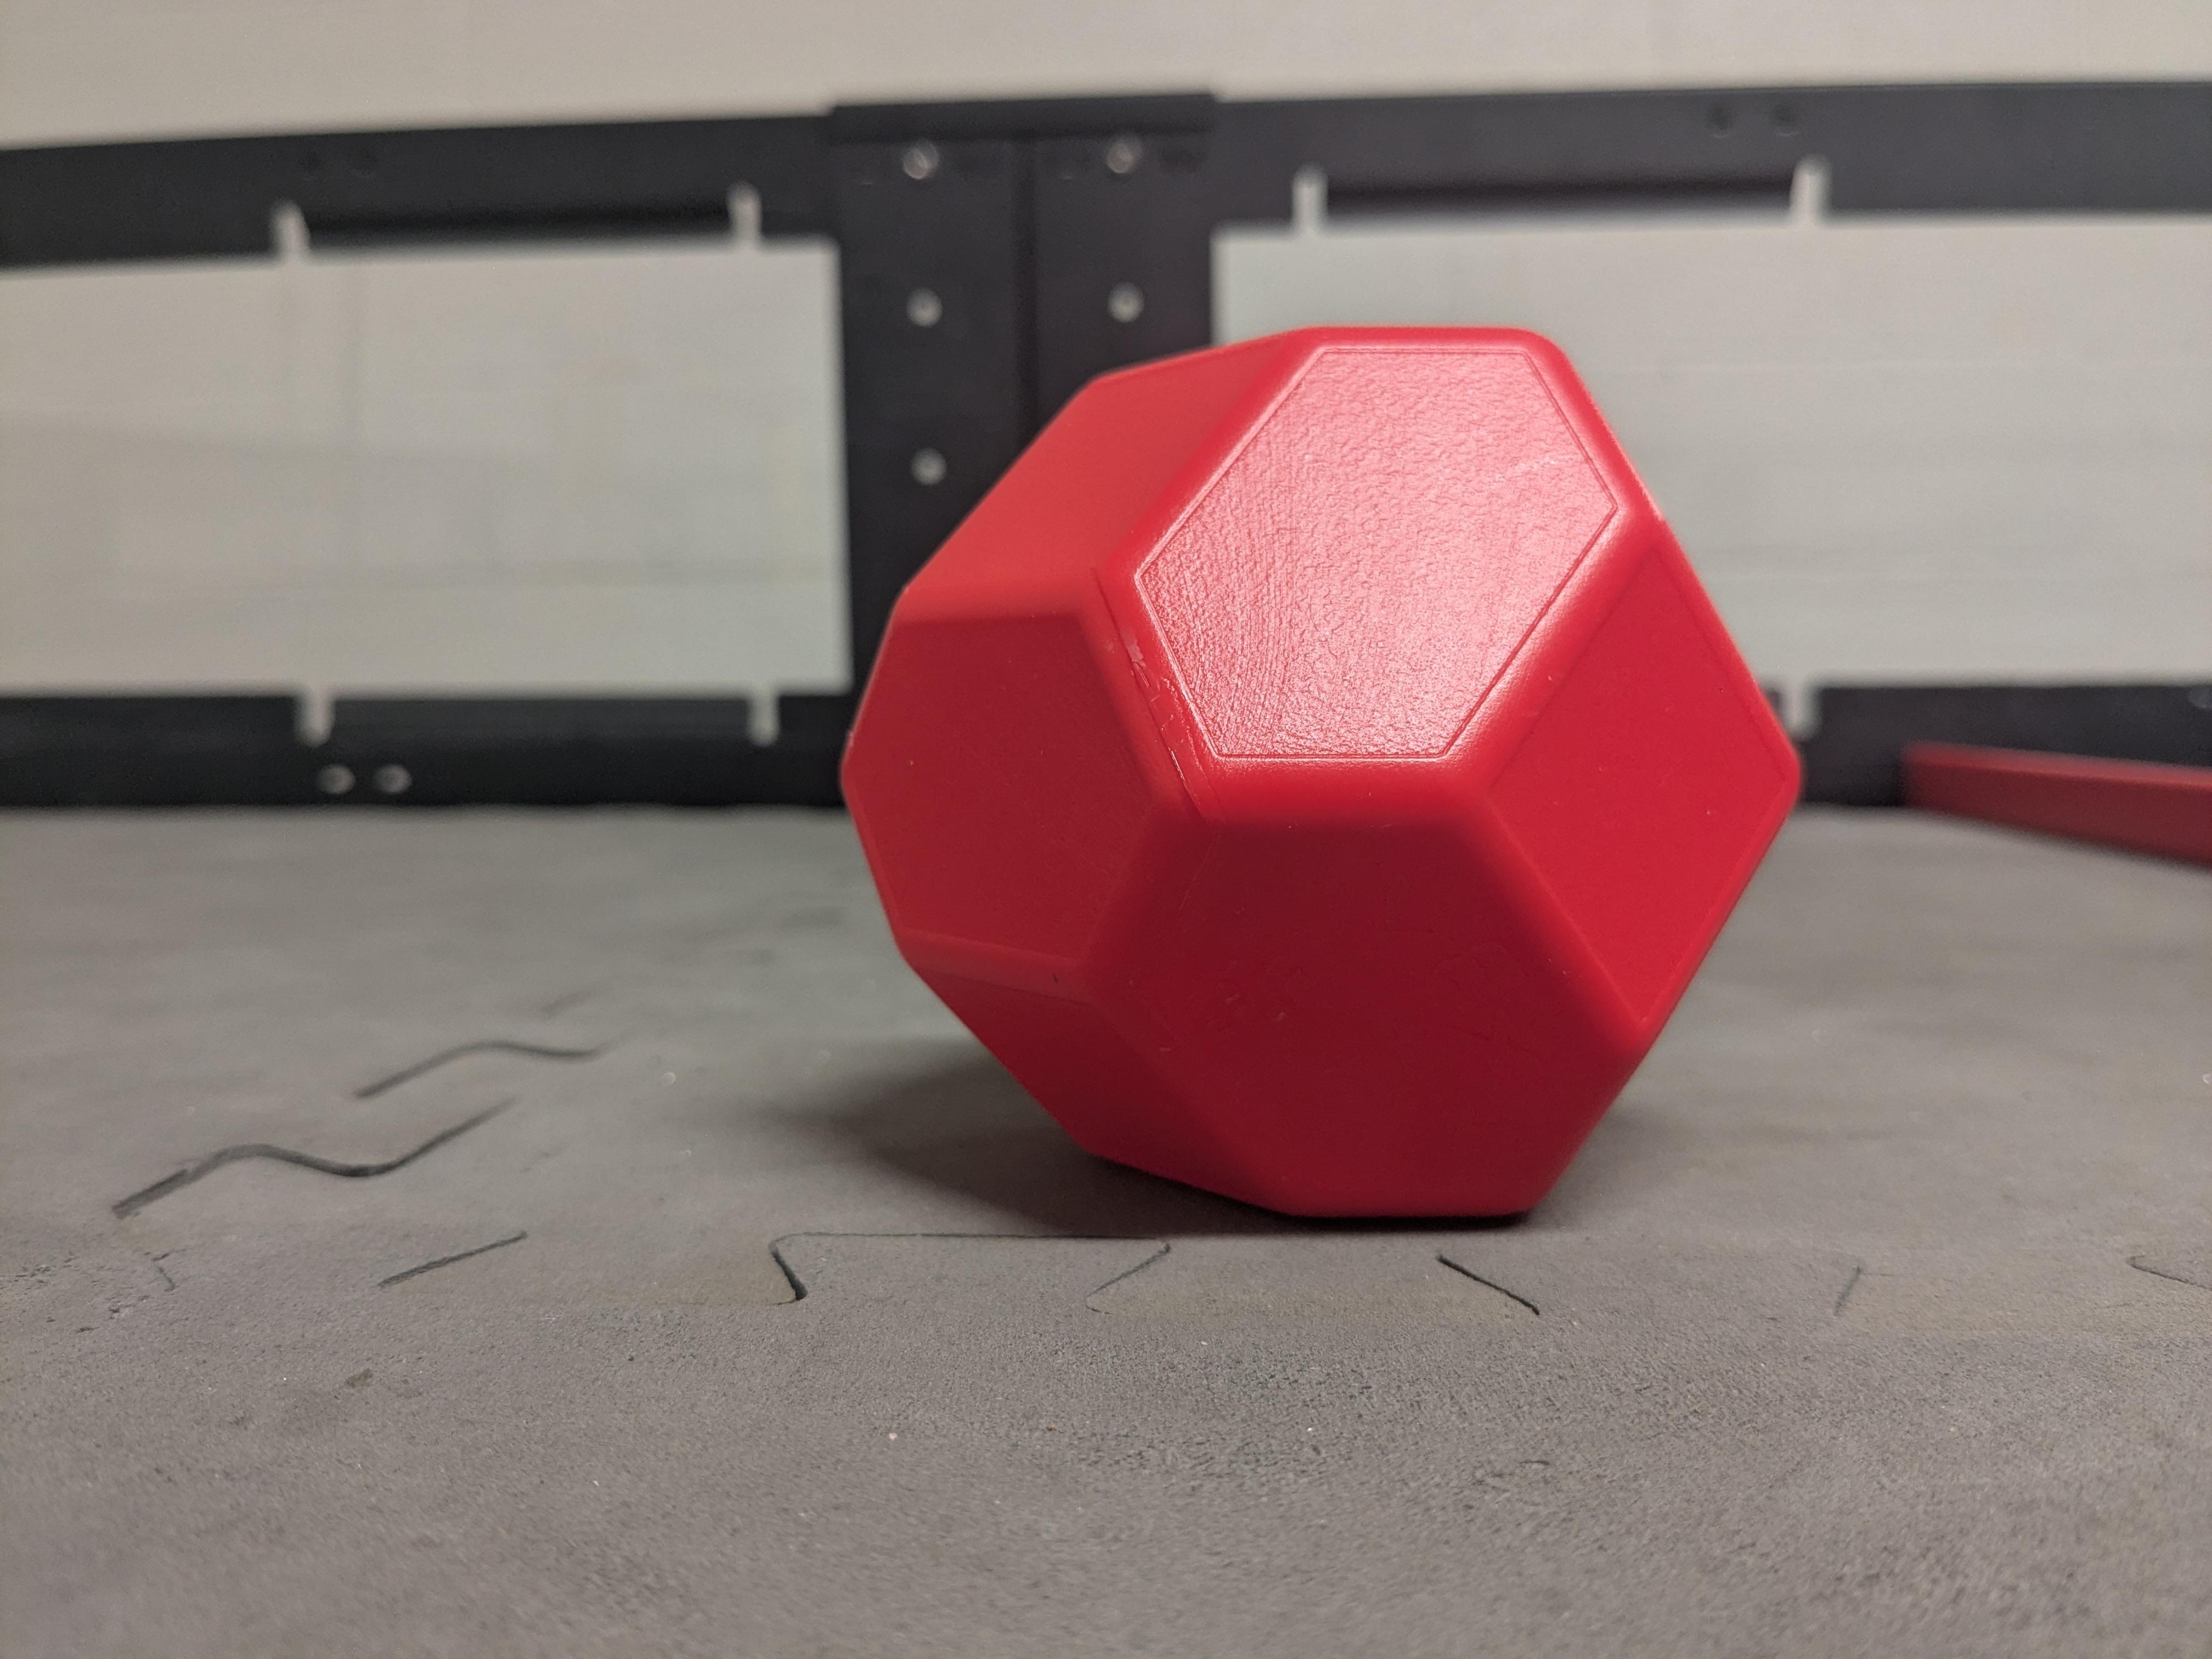Vex-Pieces-RED: (846, 321, 1806, 1220)
